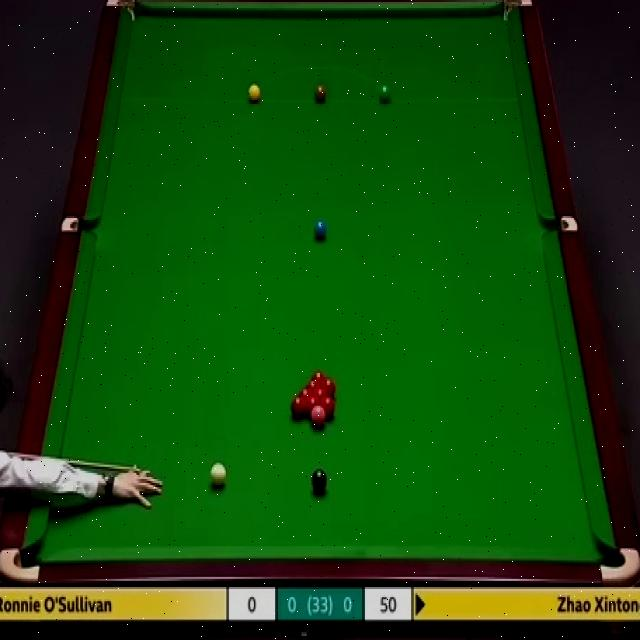black-ball: (311, 467, 329, 495)
blue-ball: (313, 218, 329, 243)
brown-ball: (314, 84, 327, 106)
green-ball: (379, 84, 393, 105)
pink-ball: (310, 404, 327, 428)
red-ball: (290, 396, 307, 420), (320, 396, 335, 418), (305, 397, 320, 416), (321, 379, 335, 395), (313, 388, 330, 400), (308, 370, 328, 380), (304, 379, 321, 390), (299, 388, 314, 400)
white-ball: (210, 462, 228, 491)
yellow-ball: (247, 83, 261, 104)
